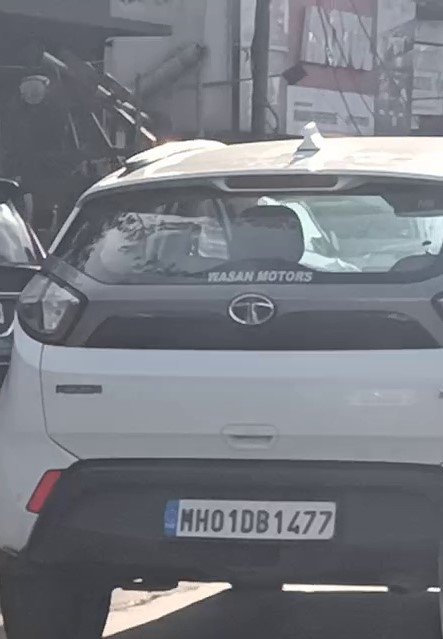MH01DB1477: (164, 500, 334, 538)
